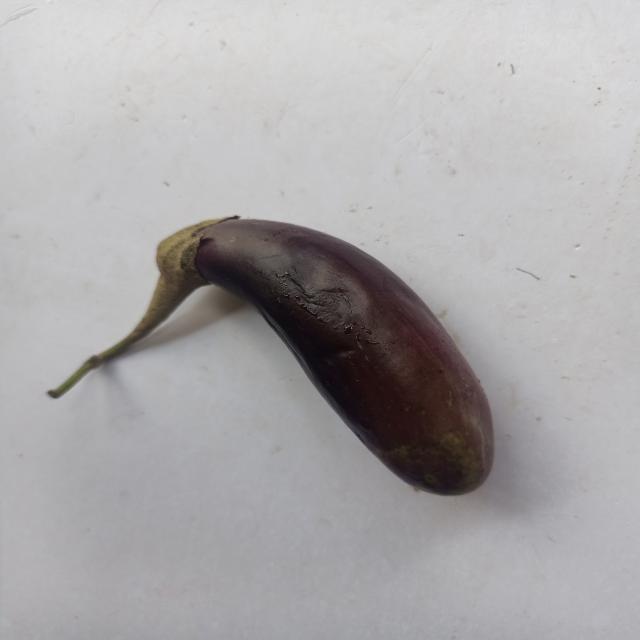Brinjal: (41, 200, 527, 553)
